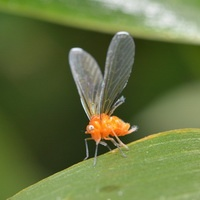insect: (69, 32, 137, 165)
